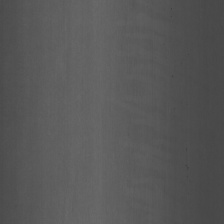inclusion: (170, 71, 177, 82), (184, 143, 188, 152)
